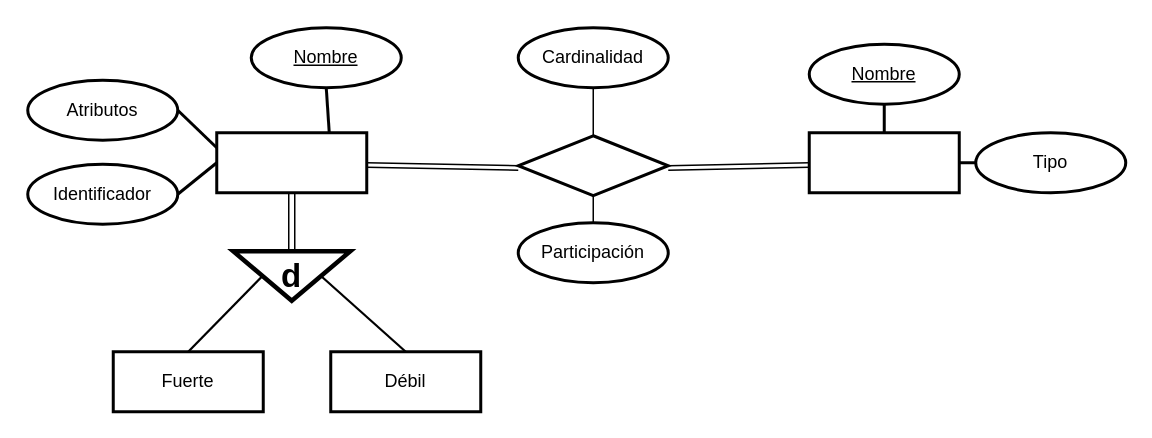
Some shapes in this 1152 by 438 pixel diagram are drawn without their labels. Here are the shapes that lost their labels. From the top down, the box of each, then its label:
(214, 130, 368, 194): Entidad
(516, 134, 669, 196): Corresponder
(807, 130, 960, 194): Relación
